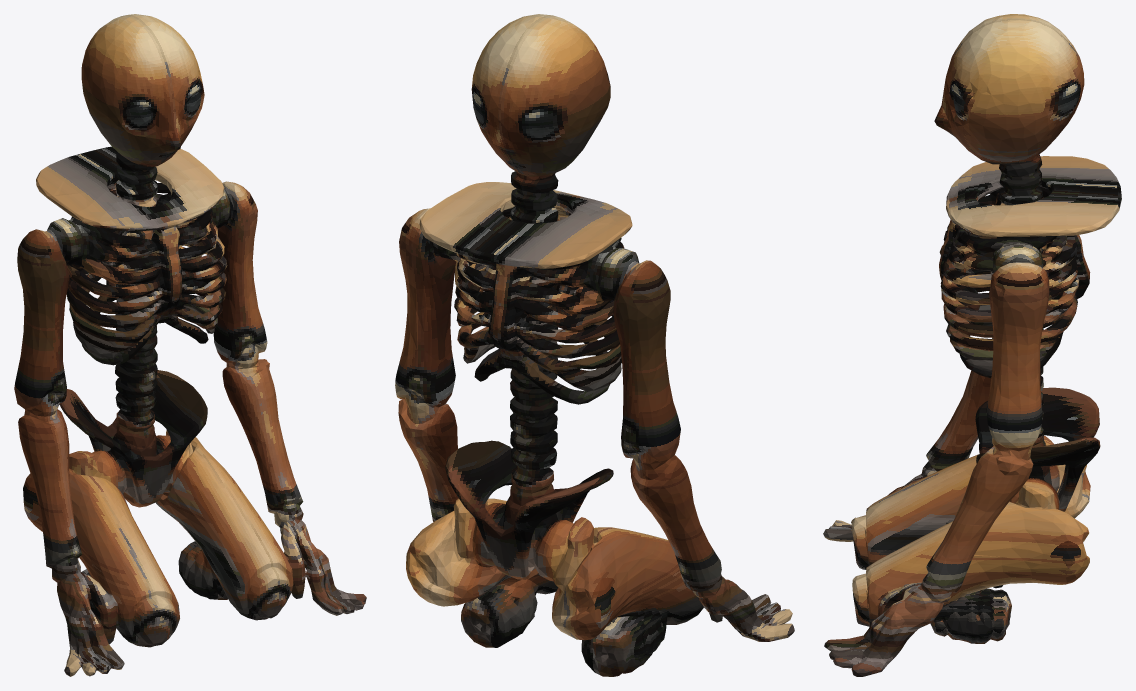
The model's file is dealer.glb.
3 views of the same model, side by side, from view 1: azimuth 30°, elevation 25°; view 2: azimuth 150°, elevation 25°; view 3: azimuth 270°, elevation 25° (orthographic). The views are drawn at different scales.
Visible parts, largest first — view 1: Body, Head, Lid; view 2: Body, Head, Lid; view 3: Body, Head, Lid.
Boxes of the visible parts, bbox=[...] form: Body: bbox=[14, 146, 366, 676]; Head: bbox=[81, 60, 204, 165]; Lid: bbox=[83, 14, 198, 90]; Body: bbox=[395, 171, 794, 676]; Head: bbox=[471, 62, 610, 178]; Lid: bbox=[473, 14, 604, 100]; Body: bbox=[823, 154, 1121, 676]; Head: bbox=[934, 62, 1084, 163]; Lid: bbox=[950, 14, 1081, 88].
Bounding box in the file's own units: 1.1 × 2 × 0.9116.
Materials: 2 (1 with a texture image).
